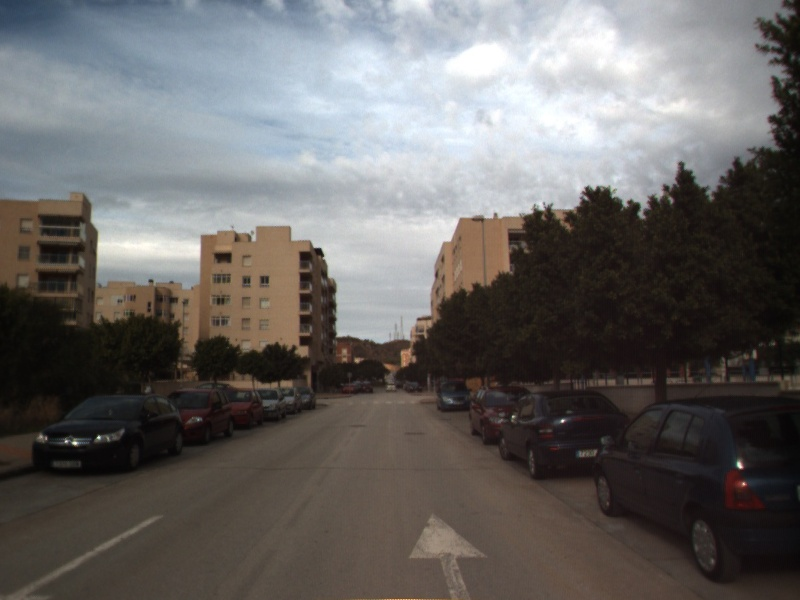STRAIGHT: (406, 510, 491, 600)
